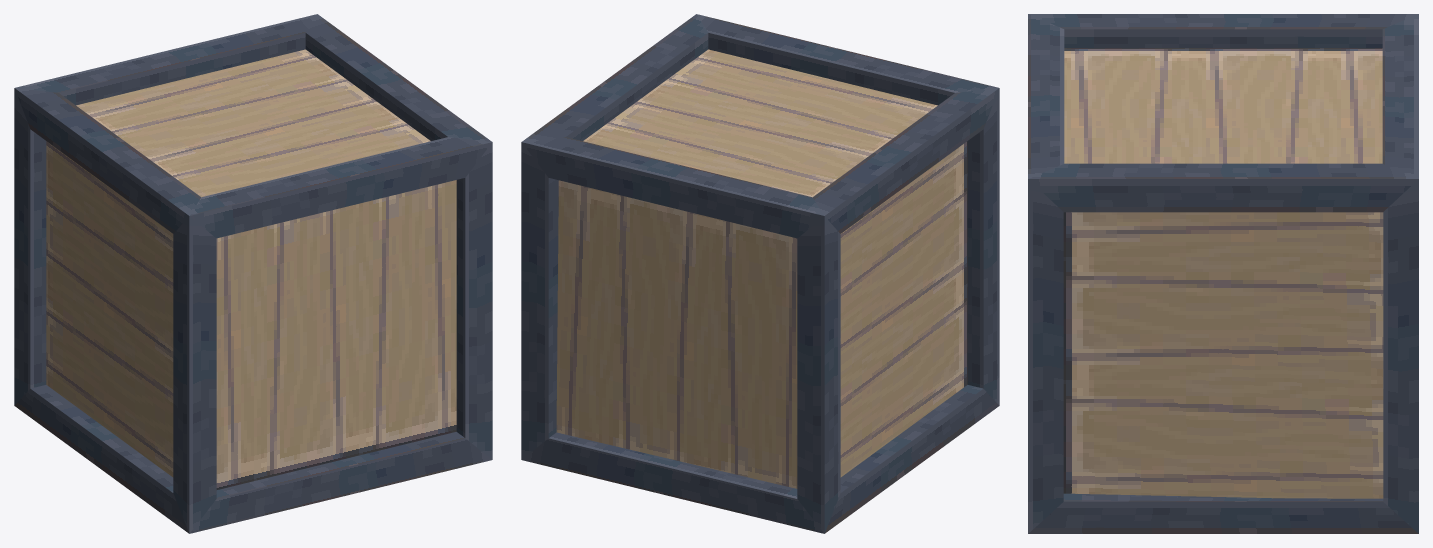
The model's file is GameReady_big_crate.fbx.
The picture shows the model from 3 angles, left to right: view 1: azimuth 30°, elevation 25°; view 2: azimuth 150°, elevation 25°; view 3: azimuth 270°, elevation 25°; orthographic projection. The views are drawn at different scales.
Visible parts, largest first — view 1: crate_big; view 2: crate_big; view 3: crate_big.
Boxes of the visible parts, bbox=[...] form: crate_big: bbox=[14, 14, 492, 533]; crate_big: bbox=[521, 14, 999, 533]; crate_big: bbox=[1028, 14, 1418, 533].
Size of the model in its own units: 29860 by 29930 by 29860.
1 material, 1 textured.
